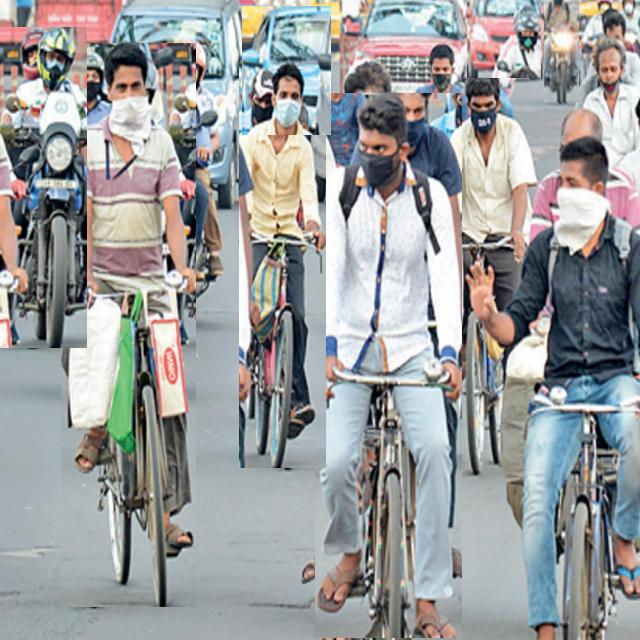bicycle: (466, 137, 640, 638), (315, 94, 462, 638), (61, 43, 196, 607), (239, 64, 326, 468)
car: (109, 0, 256, 207), (341, 0, 466, 95), (242, 7, 331, 135), (467, 0, 541, 78)
motorcycle: (0, 27, 87, 348), (146, 38, 224, 303), (545, 0, 579, 102)
